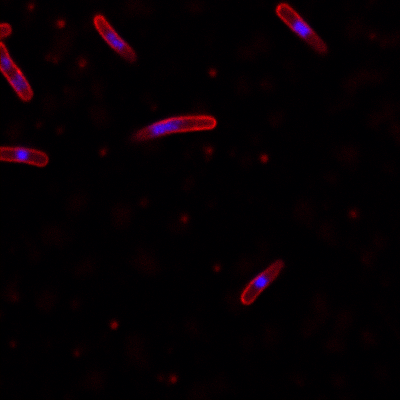Nalidixate: (1, 40, 35, 103), (1, 146, 50, 166)
Oblique: (275, 2, 328, 56), (132, 114, 218, 142), (93, 14, 137, 63), (240, 260, 284, 307)
Vesicle: (256, 152, 269, 165), (77, 57, 88, 70), (55, 18, 66, 29), (207, 67, 217, 78), (109, 320, 119, 330), (212, 263, 222, 273), (97, 147, 107, 157), (202, 146, 213, 155), (179, 215, 189, 224), (169, 375, 178, 384)
